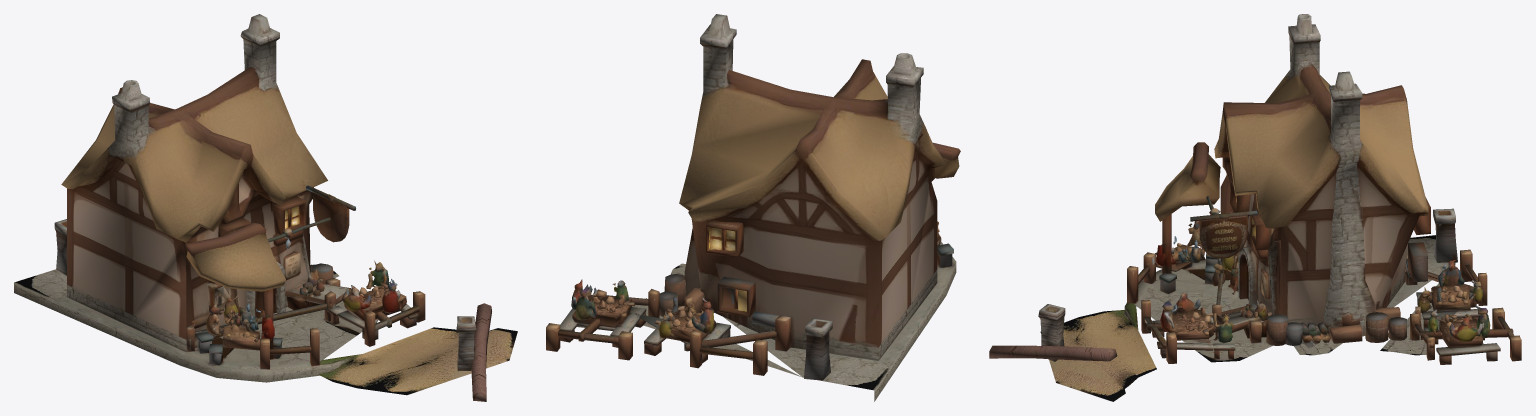
Rendered from rusty-tankard.glb.
3 renders of one model, left to right at view 1: azimuth 30°, elevation 25°; view 2: azimuth 150°, elevation 25°; view 3: azimuth 270°, elevation 25°, orthographic. The views are drawn at different scales.
Parts seen in each view (by area): view 1: tripo_node_74f15120-7644-4d3b-a07f-f62a6a3f1a6e; view 2: tripo_node_74f15120-7644-4d3b-a07f-f62a6a3f1a6e; view 3: tripo_node_74f15120-7644-4d3b-a07f-f62a6a3f1a6e.
Part boxes in pixels (x1,y1,x2,y2): tripo_node_74f15120-7644-4d3b-a07f-f62a6a3f1a6e: [14, 14, 517, 401]; tripo_node_74f15120-7644-4d3b-a07f-f62a6a3f1a6e: [546, 14, 960, 401]; tripo_node_74f15120-7644-4d3b-a07f-f62a6a3f1a6e: [989, 14, 1521, 401].
Bounding box in the file's own units: 5.26 × 4 × 7.33.
1 material, 1 textured.
